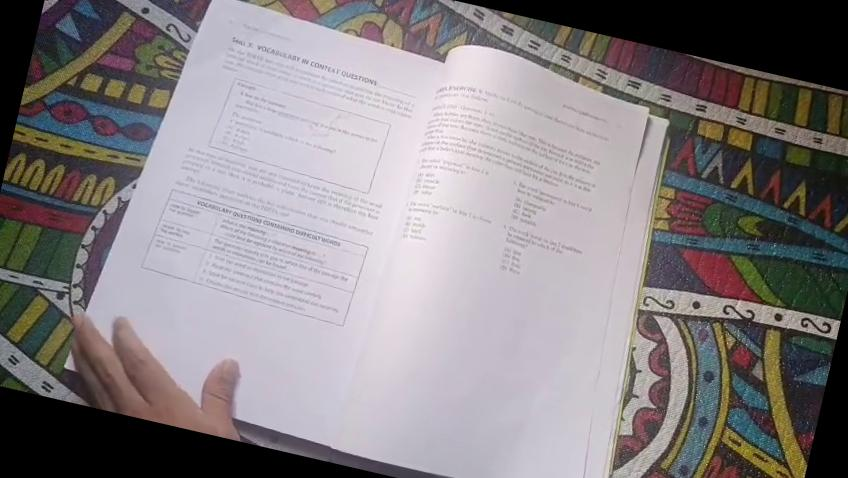Kertas: (88, 0, 442, 444), (337, 47, 647, 477)
